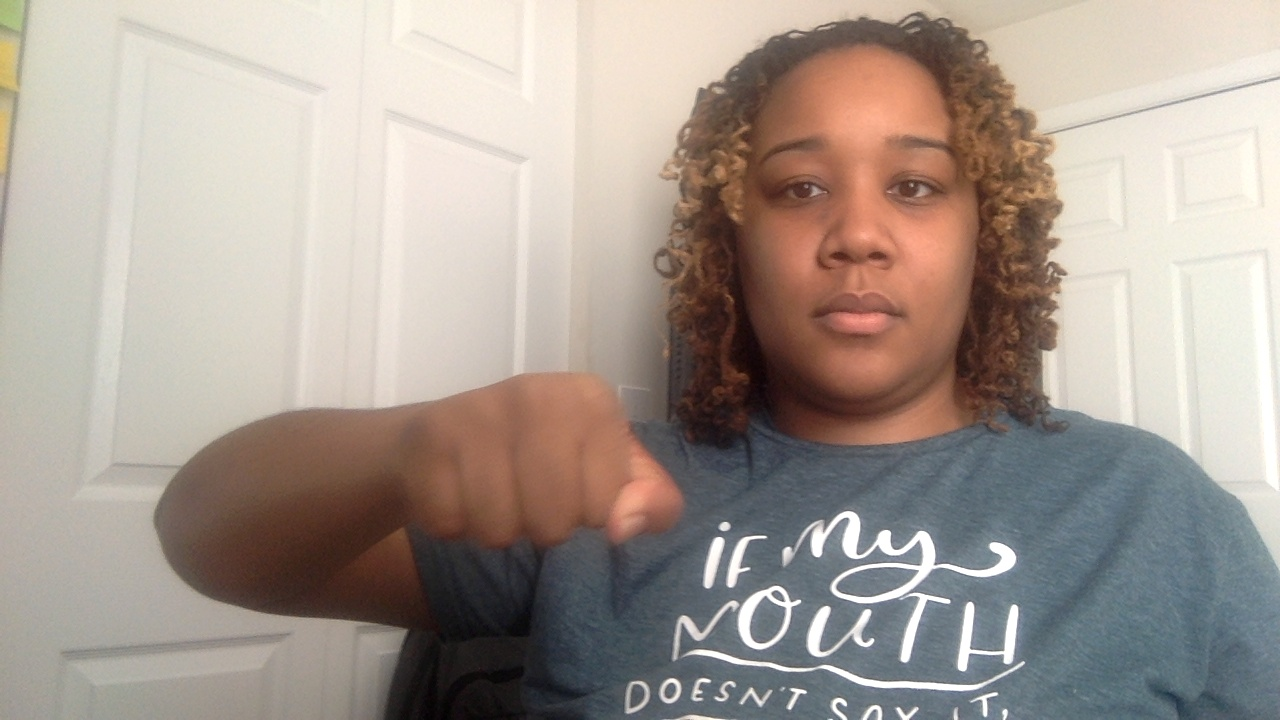yes: (329, 317, 705, 640)
